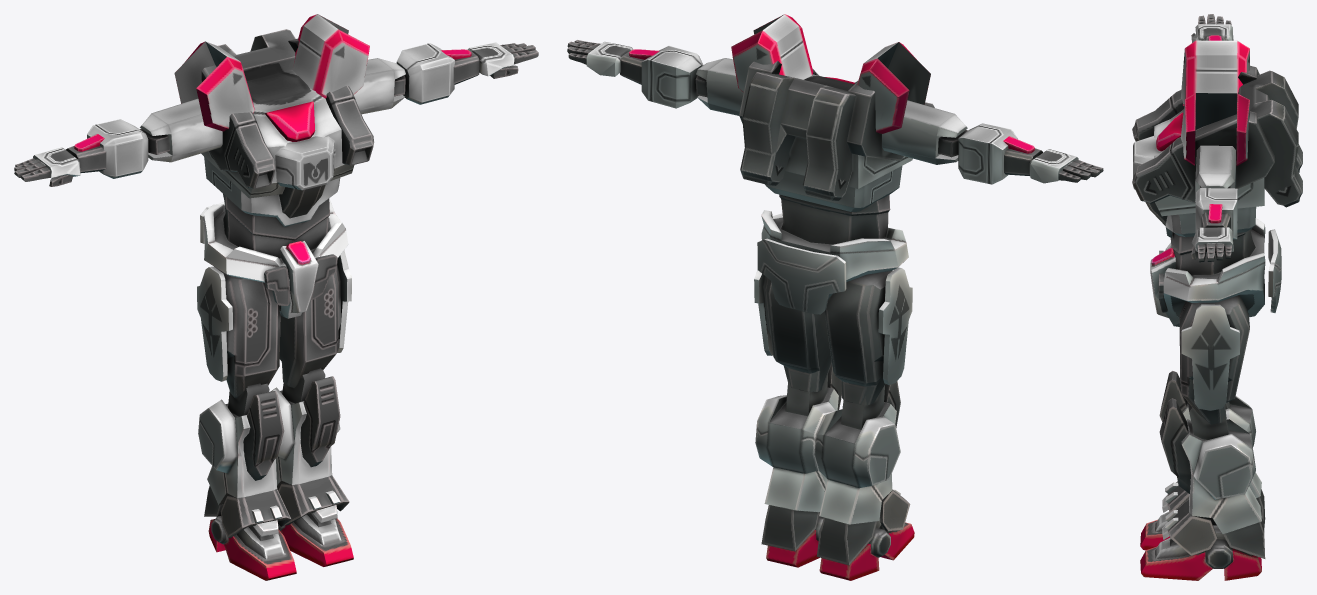
Rendered from matsumecha-body.glb.
3 renders of one model, left to right at view 1: azimuth 30°, elevation 25°; view 2: azimuth 150°, elevation 25°; view 3: azimuth 270°, elevation 25°, orthographic. The views are drawn at different scales.
Visible parts, largest first — view 1: Body; view 2: Body; view 3: Body.
Part boxes in pixels (x1,y1,x2,y2): Body: (14,14,538,580); Body: (567,14,1103,580); Body: (1132,14,1302,580).
Bounding box in the file's own units: 1.84 × 1.72 × 0.5447.
Materials: 3 (3 with a texture image).
